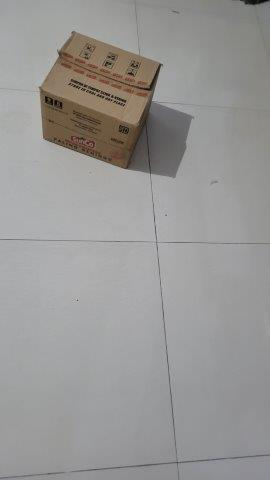kardus: (41, 31, 158, 169)
